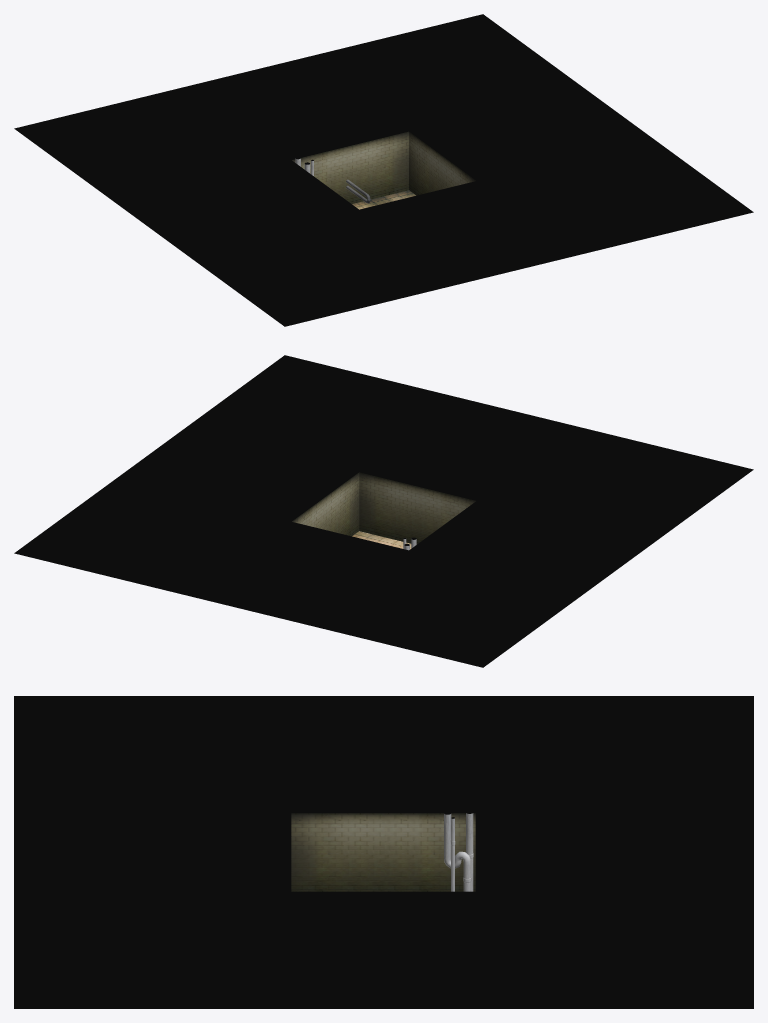
File: mod_toilet.fbx
3 renders of one model, top to bottom at view 1: azimuth 30°, elevation 25°; view 2: azimuth 150°, elevation 25°; view 3: azimuth 270°, elevation 25°, orthographic. The views are drawn at different scales.
Visible parts, largest first — view 1: pPlane2; view 2: pPlane2; view 3: pPlane2.
Boxes of the visible parts, left/top/right/bottom form: pPlane2: left=14, top=14, right=753, bottom=326; pPlane2: left=14, top=355, right=753, bottom=667; pPlane2: left=14, top=696, right=753, bottom=1008.
Size of the model in its own units: 64.2 by 8.08 by 64.2.
